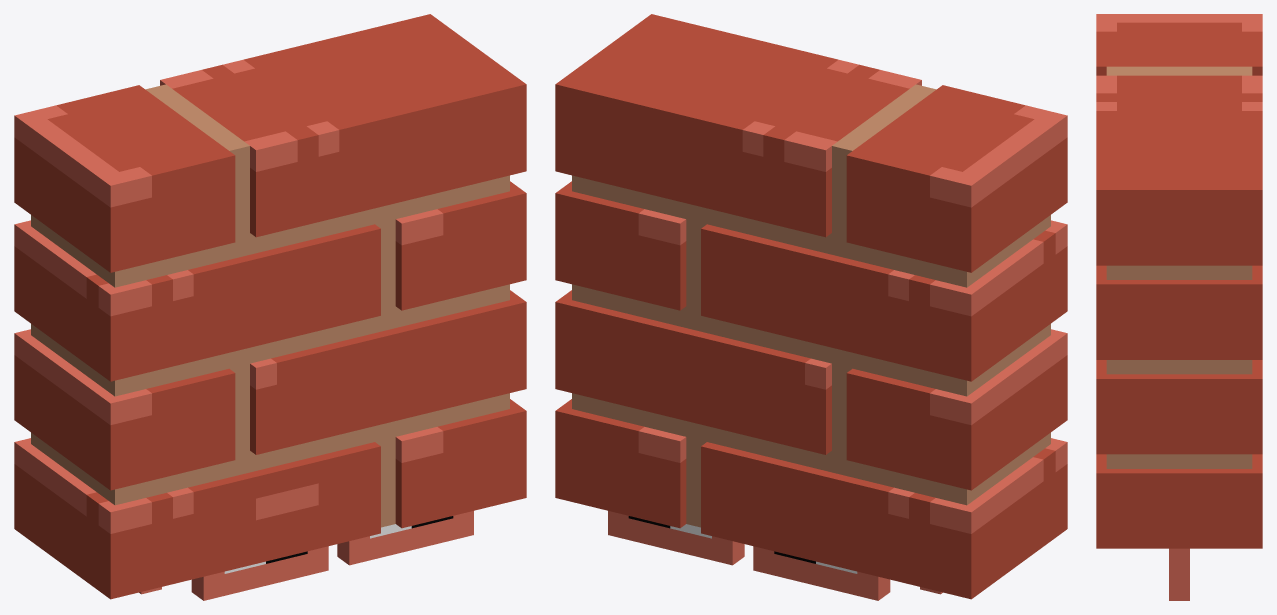
File: wall.glb
3 renders of one model, left to right at view 1: azimuth 30°, elevation 25°; view 2: azimuth 150°, elevation 25°; view 3: azimuth 270°, elevation 25°, orthographic. The views are drawn at different scales.
Parts seen in each view (by area): view 1: base, concrete, concrete-side, glasses, mouth; view 2: base, concrete, concrete-side, glasses; view 3: base, concrete-side, concrete, glasses.
Boxes of the visible parts, x1=… form: base: x1=14, y1=14, x2=526, y2=599; concrete: x1=125, y1=84, x2=499, y2=527; concrete-side: x1=31, y1=175, x2=509, y2=505; glasses: x1=139, y1=511, x2=473, y2=600; mouth: x1=256, y1=483, x2=318, y2=520; base: x1=555, y1=14, x2=1067, y2=599; concrete: x1=582, y1=84, x2=956, y2=527; concrete-side: x1=572, y1=175, x2=1050, y2=505; glasses: x1=608, y1=511, x2=942, y2=600; base: x1=1096, y1=14, x2=1262, y2=548; concrete-side: x1=1106, y1=265, x2=1252, y2=468; concrete: x1=1106, y1=66, x2=1252, y2=75; glasses: x1=1169, y1=548, x2=1189, y2=600.
Bounding box in the file's own units: 20 × 22 × 8.
Materials: 7 (7 with a texture image).
